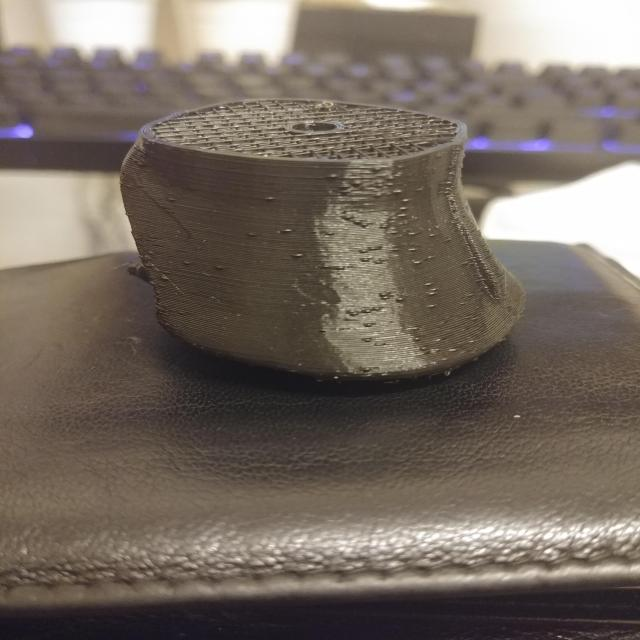blobs: (375, 276, 450, 313), (263, 222, 311, 271), (378, 184, 411, 254), (330, 328, 390, 358), (189, 248, 229, 284)
